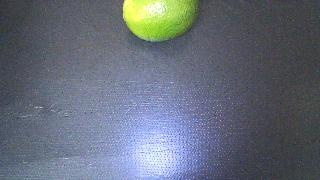EXPORTACION: (123, 0, 199, 42)
